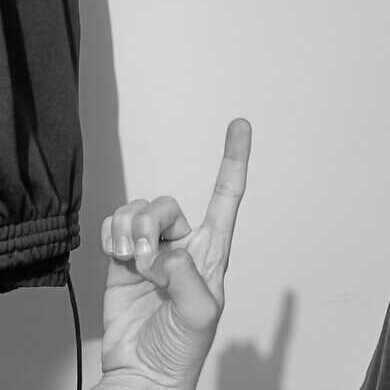D: (98, 115, 253, 386)
